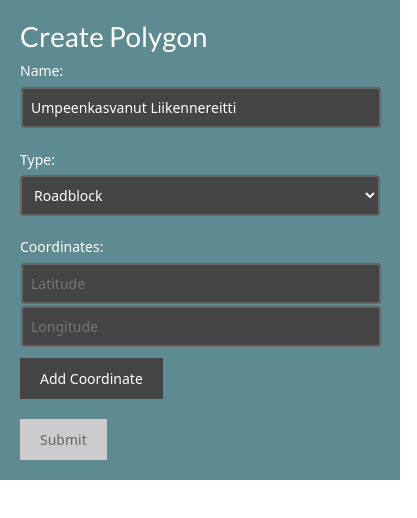
Test: invalid polygon coordinate correction removes notification
The image size is (417, 518).
In the field with placeholder "Latitude": (201, 284) [21,263,381,304], type "0"
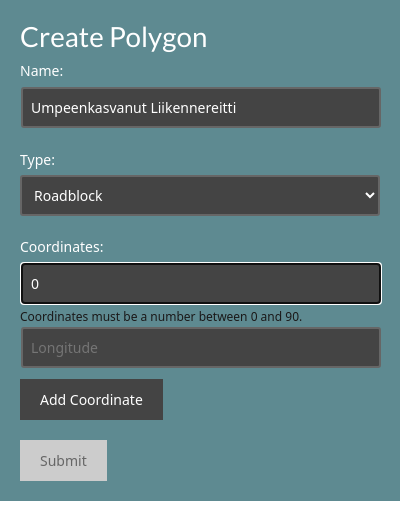
Expected: the text "Coordinates must be a number between 0 and 90." is shown, [20,308,302,325]
In the 2nd field: (201, 284) [21,263,381,304], type "1"
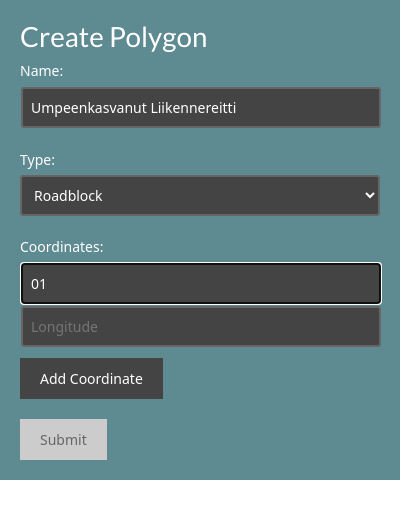
Expected: the text "Coordinates must be a number between 0 and 90." is gone
